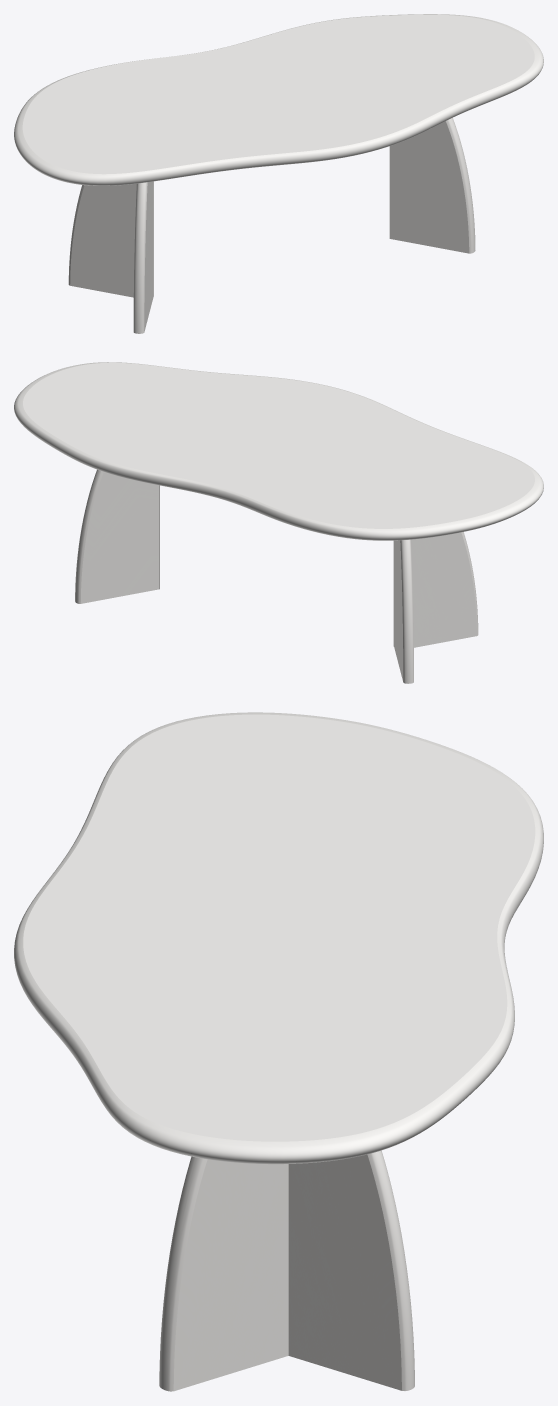
The model's file is purewhite_toplast_round_newtable2.glb.
3 renders of one model, top to bottom at view 1: azimuth 30°, elevation 25°; view 2: azimuth 150°, elevation 25°; view 3: azimuth 270°, elevation 25°, orthographic. The views are drawn at different scales.
Parts seen in each view (by area): view 1: round_toplast, newtable2_singleright2, newtable2_singleleft1, newtable2_singleright1; view 2: round_toplast, newtable2_singleleft2, newtable2_singleright1, newtable2_singleleft1; view 3: round_toplast, newtable2_singleright2, newtable2_singleleft2.
Part boxes in pixels (<box>): round_toplast: <box>14,14,543,185</box>; newtable2_singleright2: <box>389,118,475,253</box>; newtable2_singleleft1: <box>68,181,153,297</box>; newtable2_singleright1: <box>133,181,153,333</box>; round_toplast: <box>14,362,543,540</box>; newtable2_singleleft2: <box>75,469,159,603</box>; newtable2_singleright1: <box>393,532,478,647</box>; newtable2_singleleft1: <box>394,539,413,683</box>; round_toplast: <box>14,712,543,1164</box>; newtable2_singleright2: <box>159,1156,288,1391</box>; newtable2_singleleft2: <box>288,1150,414,1390</box>.
Size of the model in its own units: 7.5 by 2.49 by 3.8.
Materials: 1 (1 with a texture image).
